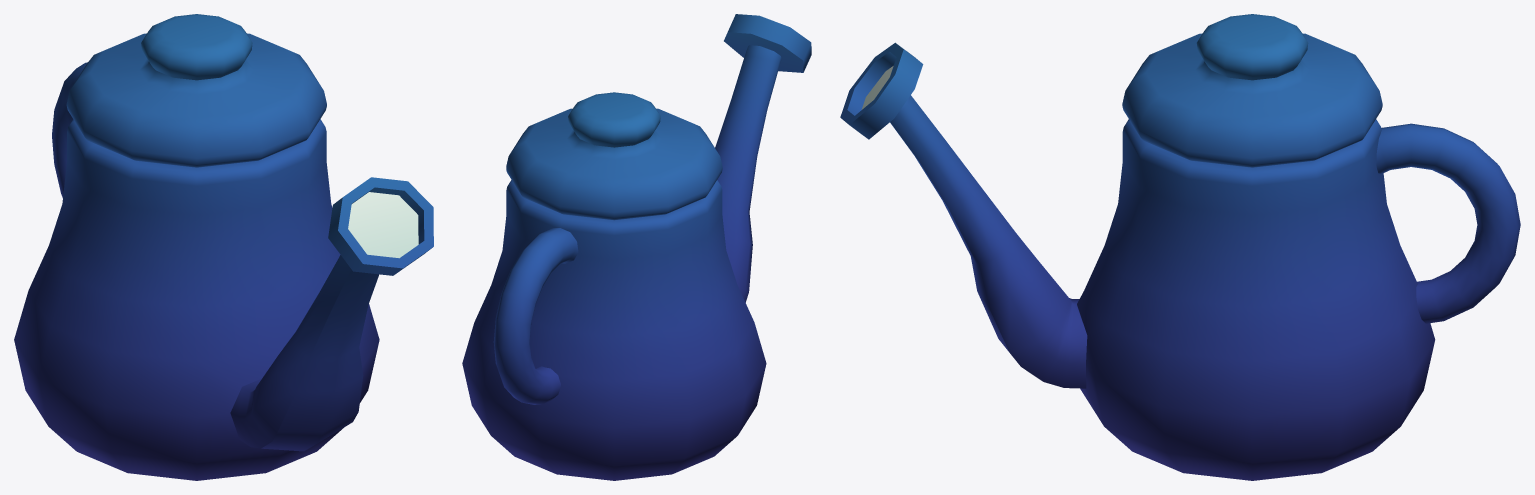
Rendered from WaterBucket.fbx.
The picture shows the model from 3 angles, left to right: view 1: azimuth 30°, elevation 25°; view 2: azimuth 150°, elevation 25°; view 3: azimuth 270°, elevation 25°; orthographic projection. The views are drawn at different scales.
Visible parts, largest first — view 1: WaterBucket; view 2: WaterBucket; view 3: WaterBucket.
Boxes of the visible parts, box(x1,y1,x2,y2) form: WaterBucket: box(14, 14, 433, 480); WaterBucket: box(462, 14, 811, 480); WaterBucket: box(840, 14, 1520, 480).
Bounding box in the file's own units: 0.3339 × 0.3942 × 0.6215.
